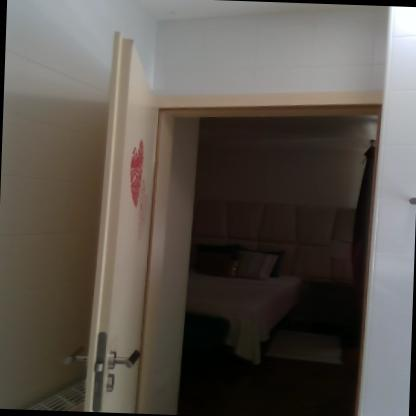open: (93, 29, 377, 416)
